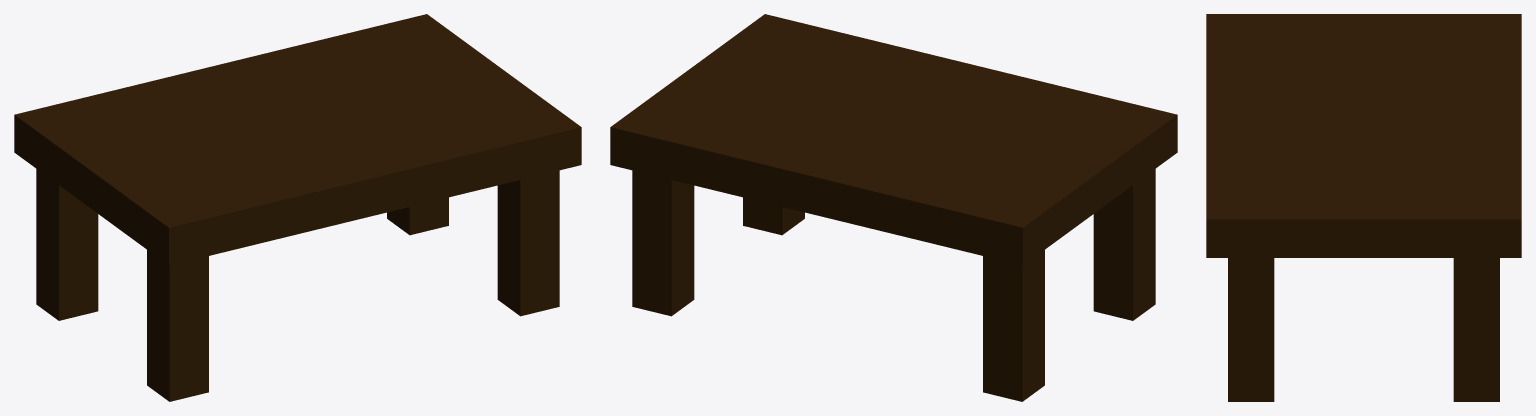
File: Small_table.fbx
3 views of the same model, side by side, from view 1: azimuth 30°, elevation 25°; view 2: azimuth 150°, elevation 25°; view 3: azimuth 270°, elevation 25° (orthographic).
Parts seen in each view (by area): view 1: Cube.007; view 2: Cube.007; view 3: Cube.007.
Boxes of the visible parts, box(x1,y1,x2,y2) form: Cube.007: box(14, 14, 581, 401); Cube.007: box(610, 14, 1177, 401); Cube.007: box(1206, 14, 1521, 401).
Size of the model in its own units: 1.41 by 0.6039 by 0.9162.
